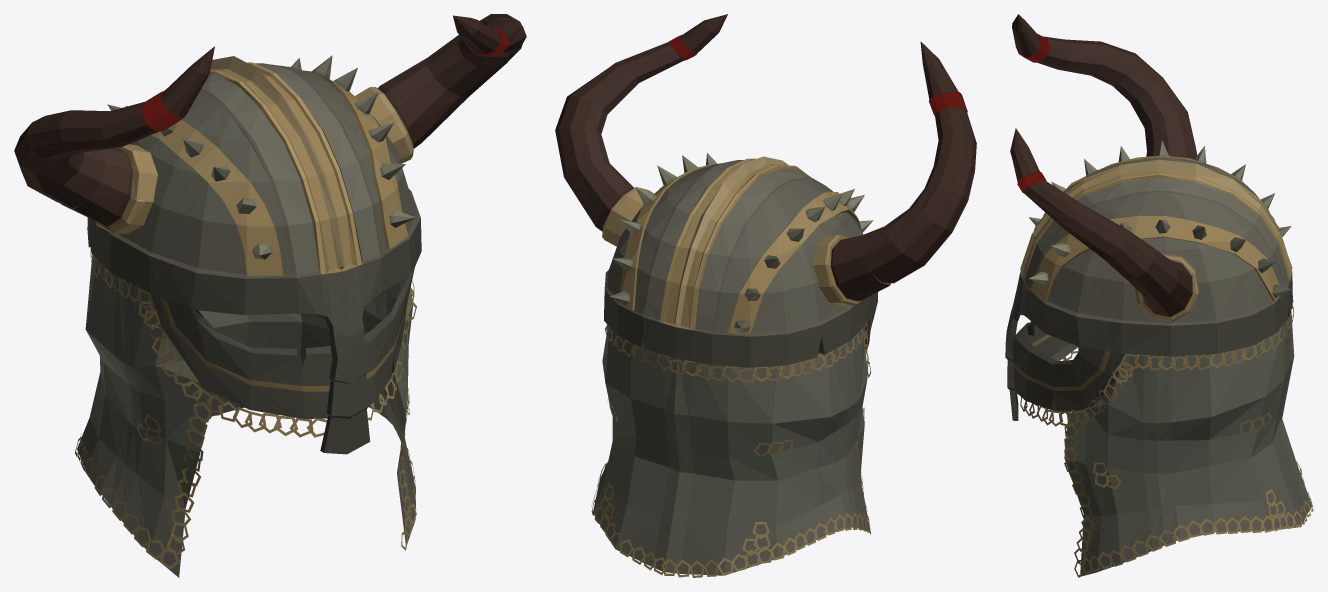
The model's file is heavyVikingHelmetHornedFemale.glb.
3 views of the same model, side by side, from view 1: azimuth 30°, elevation 25°; view 2: azimuth 150°, elevation 25°; view 3: azimuth 270°, elevation 25° (orthographic). The views are drawn at different scales.
Visible parts, largest first — view 1: heavyVikingHelmetHorned; view 2: heavyVikingHelmetHorned; view 3: heavyVikingHelmetHorned.
Boxes of the visible parts, left/top/right/bottom form: heavyVikingHelmetHorned: left=14, top=14, right=526, bottom=577; heavyVikingHelmetHorned: left=555, top=14, right=976, bottom=577; heavyVikingHelmetHorned: left=1005, top=14, right=1313, bottom=577.
Bounding box in the file's own units: 0.5032 × 0.5773 × 0.3399.
